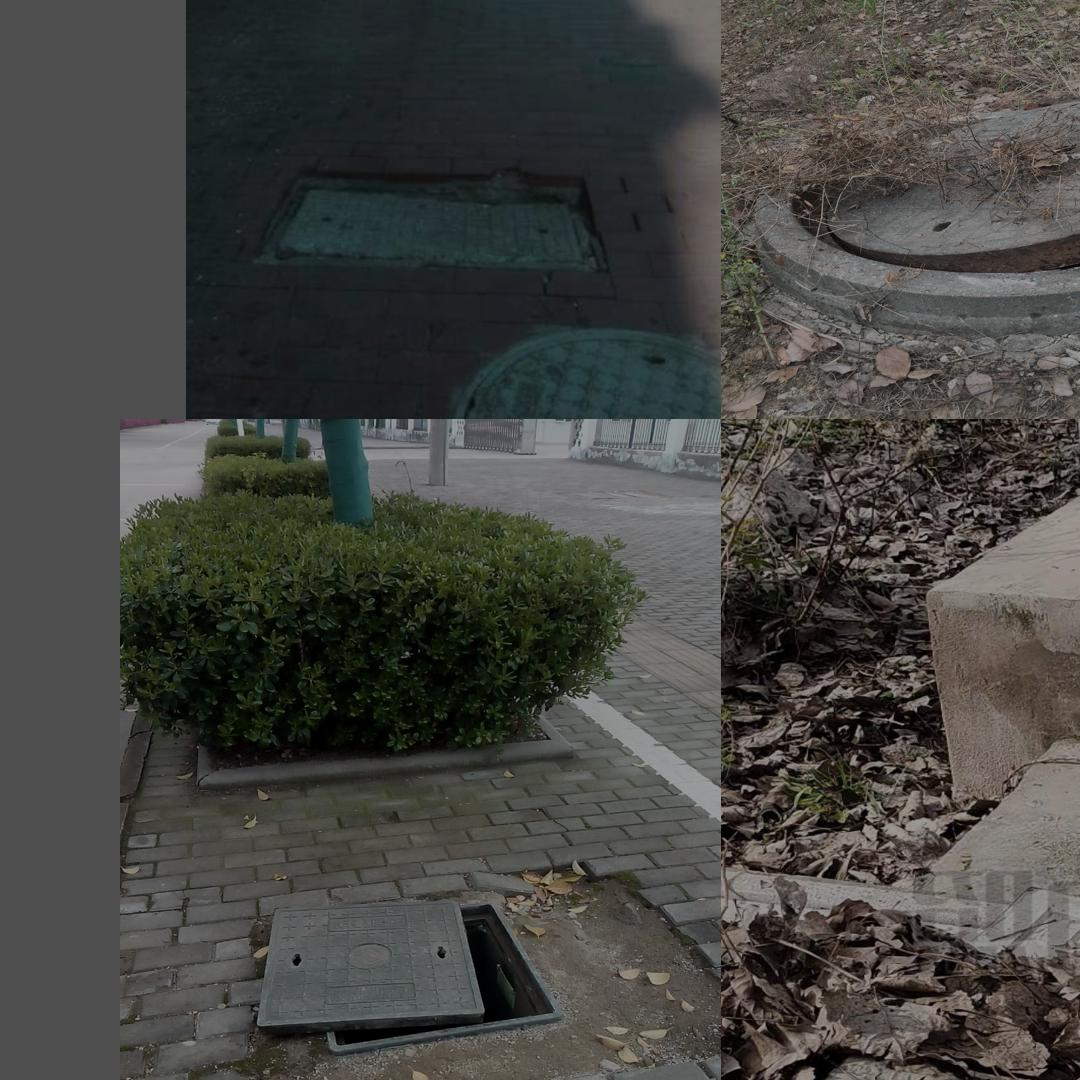good: (451, 325, 719, 416)
uncovered: (733, 871, 1080, 1080), (752, 91, 1080, 300), (252, 895, 562, 1051), (254, 166, 613, 277)
